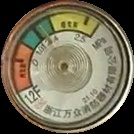green: (21, 17, 56, 54)
needle: (40, 22, 57, 49)
red: (10, 43, 35, 95)
yellow: (51, 11, 104, 36)
